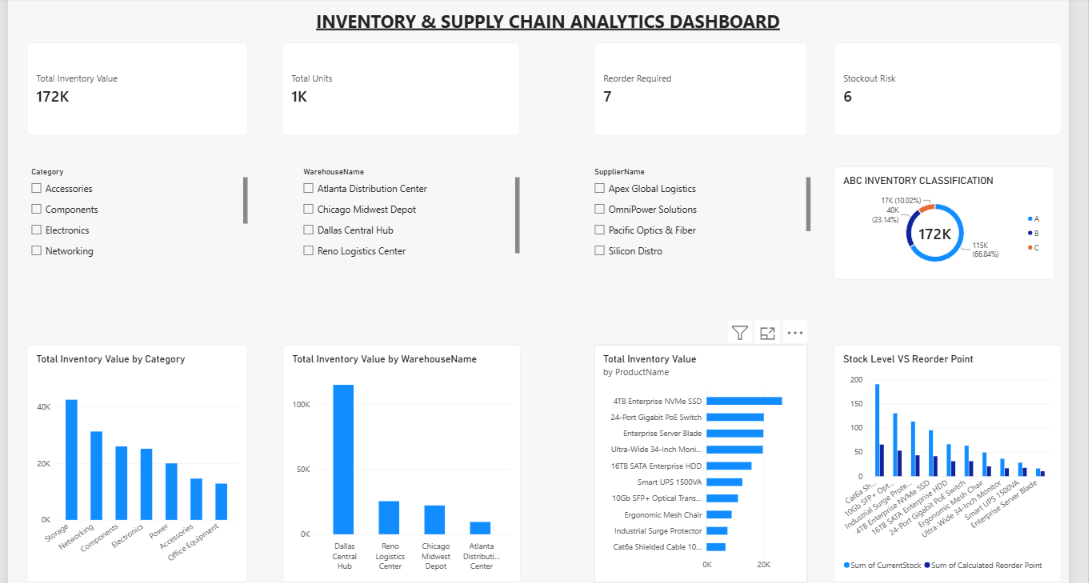

The dashboard page shown, as its layout file describes it:
{"tool":"powerbi","page":{"name":"Page 1","canvas":[1920,1080],"ordinal":0},"visuals":[{"type":"cardVisual","fields":{"Data":["inventory.Total Inventory Value"]},"box":[35,82.3,399.3,168.8],"z":0},{"type":"cardVisual","fields":{"Data":["inventory.Total Units"]},"box":[496.1,82.3,430.2,168.8],"z":1},{"type":"cardVisual","fields":{"Data":["inventory.Reorder Required"]},"box":[1060,82.3,387,168.8],"z":2},{"type":"cardVisual","fields":{"Data":["inventory.Stockout Risk"]},"box":[1494.3,82.3,411.7,168.8],"z":3},{"type":"clusteredColumnChart","fields":{"Category":["products.Category"],"Y":["inventory.Total Inventory Value"]},"box":[35,627.8,399,430],"z":4},{"type":"clusteredColumnChart","fields":{"Category":["warehouses.WarehouseName"],"Y":["inventory.Total Inventory Value"]},"box":[498.1,627.8,430,430],"z":5},{"type":"barChart","fields":{"Category":["products.ProductName"],"Y":["inventory.Total Inventory Value"]},"box":[1060,627.8,387,430],"z":6},{"type":"clusteredColumnChart","title":"Stock Level VS Reorder Point","fields":{"Category":["products.ProductName"],"Y":["Sum(inventory.CurrentStock)","Sum(inventory.Calculated Reorder Point)"]},"box":[1494.3,627.8,412,430],"z":7},{"type":"slicer","fields":{"Values":["products.Category"]},"box":[35,306.5,399,169],"z":8},{"type":"slicer","fields":{"Values":["warehouses.WarehouseName"]},"box":[526.9,306.7,399,169],"z":9},{"type":"slicer","fields":{"Values":["suppliers.SupplierName"]},"box":[1053.9,306.7,399,169],"z":10},{"type":"donutChart","title":"ABC INVENTORY CLASSIFICATION","fields":{"Category":["products.ABC Classification"],"Y":["inventory.Total Inventory Value"]},"box":[1494.8,305.8,398.1,204.5],"z":11},{"type":"textbox","box":[34.4,19.9,1885.7,48.9],"z":12}]}

Visuals, with their boxes on the page's 1920x1080 design canvas (x1, y1, x2, y2). These are canvas units, not pixel positions in the 1092x583 screenshot, which may show the page scaled, cropped or inside an application window:
cardVisual - inventory.Total Inventory Value: bbox=[35, 82, 434, 251]
cardVisual - inventory.Total Units: bbox=[496, 82, 926, 251]
cardVisual - inventory.Reorder Required: bbox=[1060, 82, 1447, 251]
cardVisual - inventory.Stockout Risk: bbox=[1494, 82, 1906, 251]
clusteredColumnChart - products.Category x inventory.Total Inventory Value: bbox=[35, 628, 434, 1058]
clusteredColumnChart - warehouses.WarehouseName x inventory.Total Inventory Value: bbox=[498, 628, 928, 1058]
barChart - products.ProductName x inventory.Total Inventory Value: bbox=[1060, 628, 1447, 1058]
"Stock Level VS Reorder Point" clusteredColumnChart: bbox=[1494, 628, 1906, 1058]
slicer - products.Category: bbox=[35, 306, 434, 476]
slicer - warehouses.WarehouseName: bbox=[527, 307, 926, 476]
slicer - suppliers.SupplierName: bbox=[1054, 307, 1453, 476]
"ABC INVENTORY CLASSIFICATION" donutChart: bbox=[1495, 306, 1893, 510]
textbox: bbox=[34, 20, 1920, 69]
